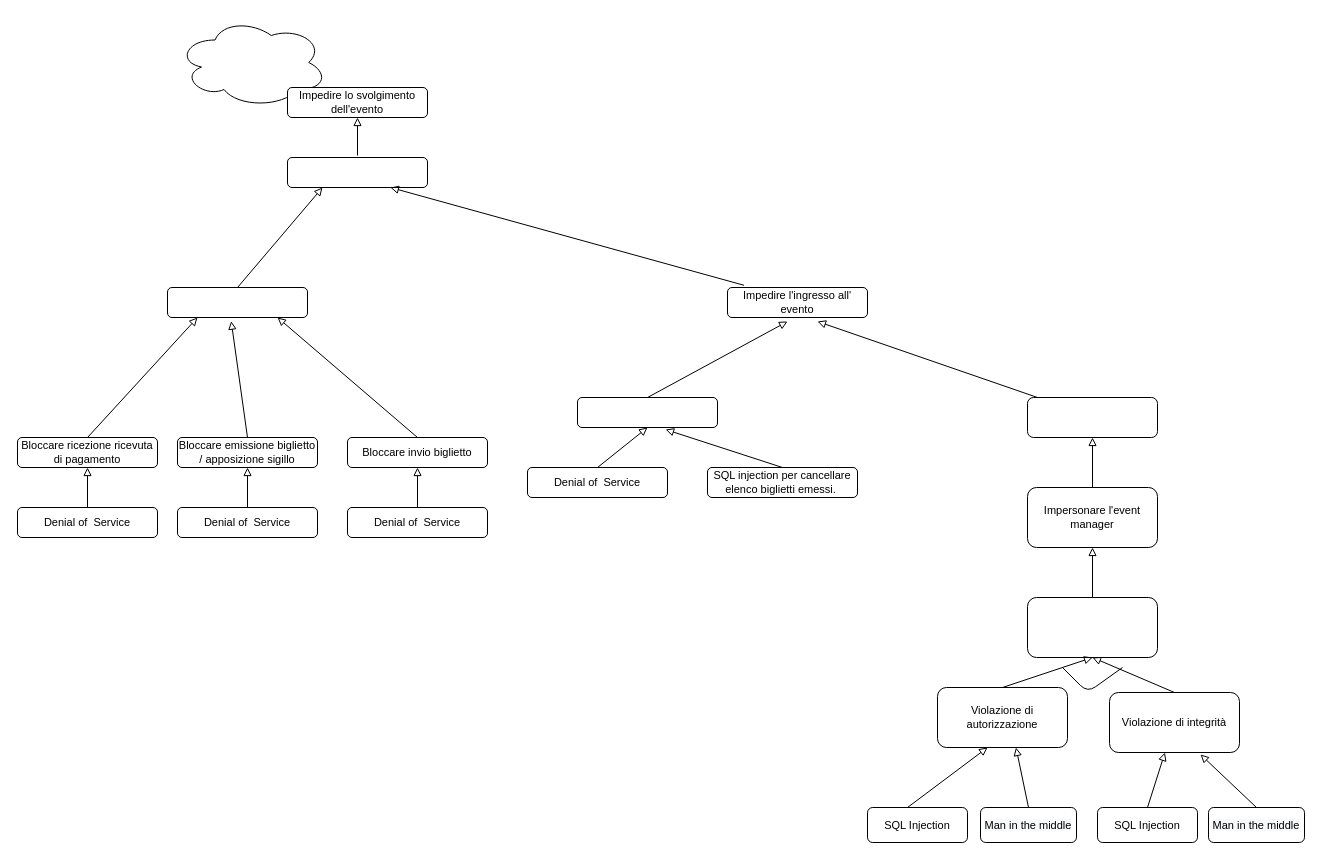
Image size: 1322x860. Some labels were removed from this diagram. The box of each missing label's shape, as (x1, y1, x2, y2) in pixels:
Bloccare lettura / invalidazione biglietto: (576, 396, 718, 428)
Crimine organizzato o concorrenti: (176, 16, 328, 108)
Impedire l'utilizzo del sito di prenotazione: (166, 286, 308, 318)
Modificare numero posti: (1026, 396, 1158, 438)
Violazione di autenticazione: (1026, 596, 1158, 658)
Violazione di disponibilità: (286, 156, 428, 188)
